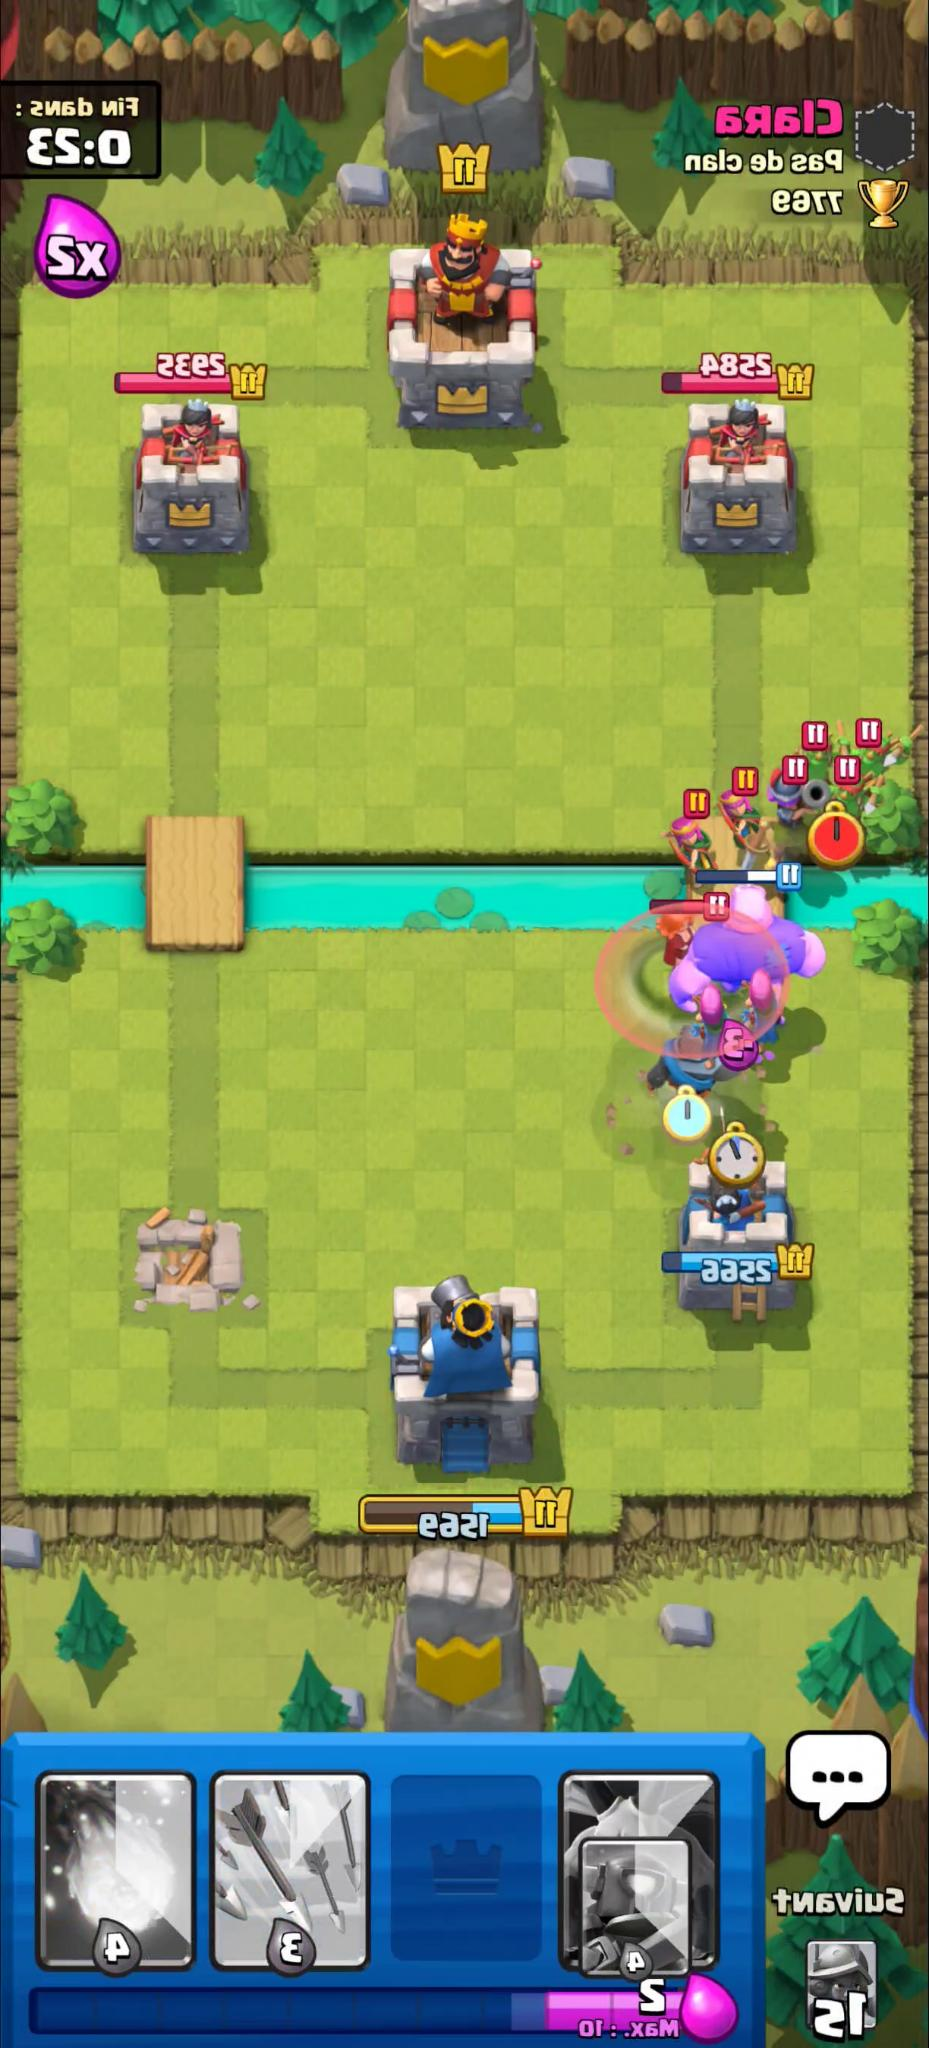archere: (660, 815, 720, 886), (737, 965, 785, 1051), (716, 786, 767, 850), (693, 984, 729, 1049)
chevalier: (642, 1031, 729, 1102)
geant: (666, 888, 821, 1004)
gobelin_lances: (844, 726, 924, 782), (790, 718, 851, 778), (827, 773, 886, 822)
mousquetaire: (764, 767, 831, 828)
valkyrie: (659, 906, 699, 972)
